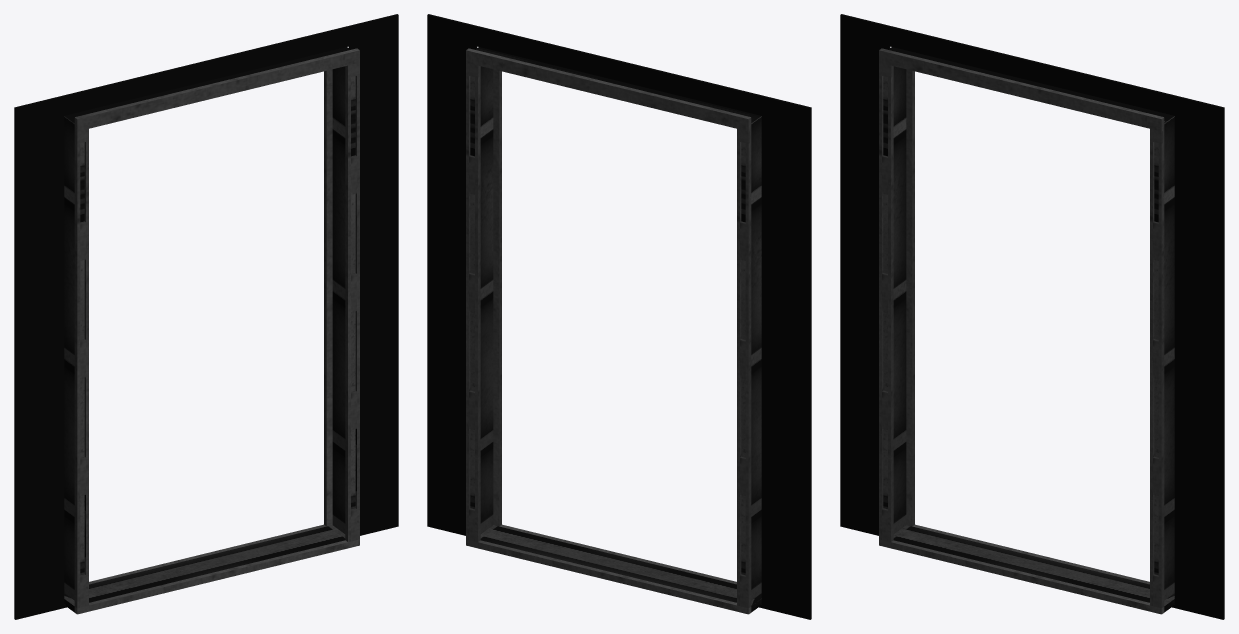
File: Frame.fbx
The picture shows the model from 3 angles, left to right: view 1: azimuth 30°, elevation 25°; view 2: azimuth 150°, elevation 25°; view 3: azimuth 330°, elevation 25°; orthographic projection.
Visible parts, largest first — view 1: Frame; view 2: Frame; view 3: Frame.
Boxes of the visible parts, <box> form: Frame: <box>14,14,398,619</box>; Frame: <box>427,14,811,619</box>; Frame: <box>840,14,1224,619</box>.
Bounding box in the file's own units: 2.71 × 3.46 × 0.2957.
1 material, 1 textured.
